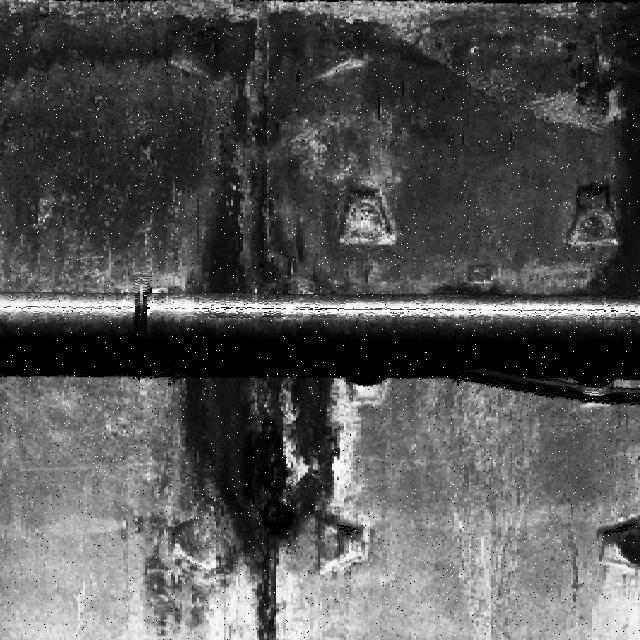leakage: (151, 379, 369, 639), (191, 78, 319, 295), (565, 2, 639, 306)
